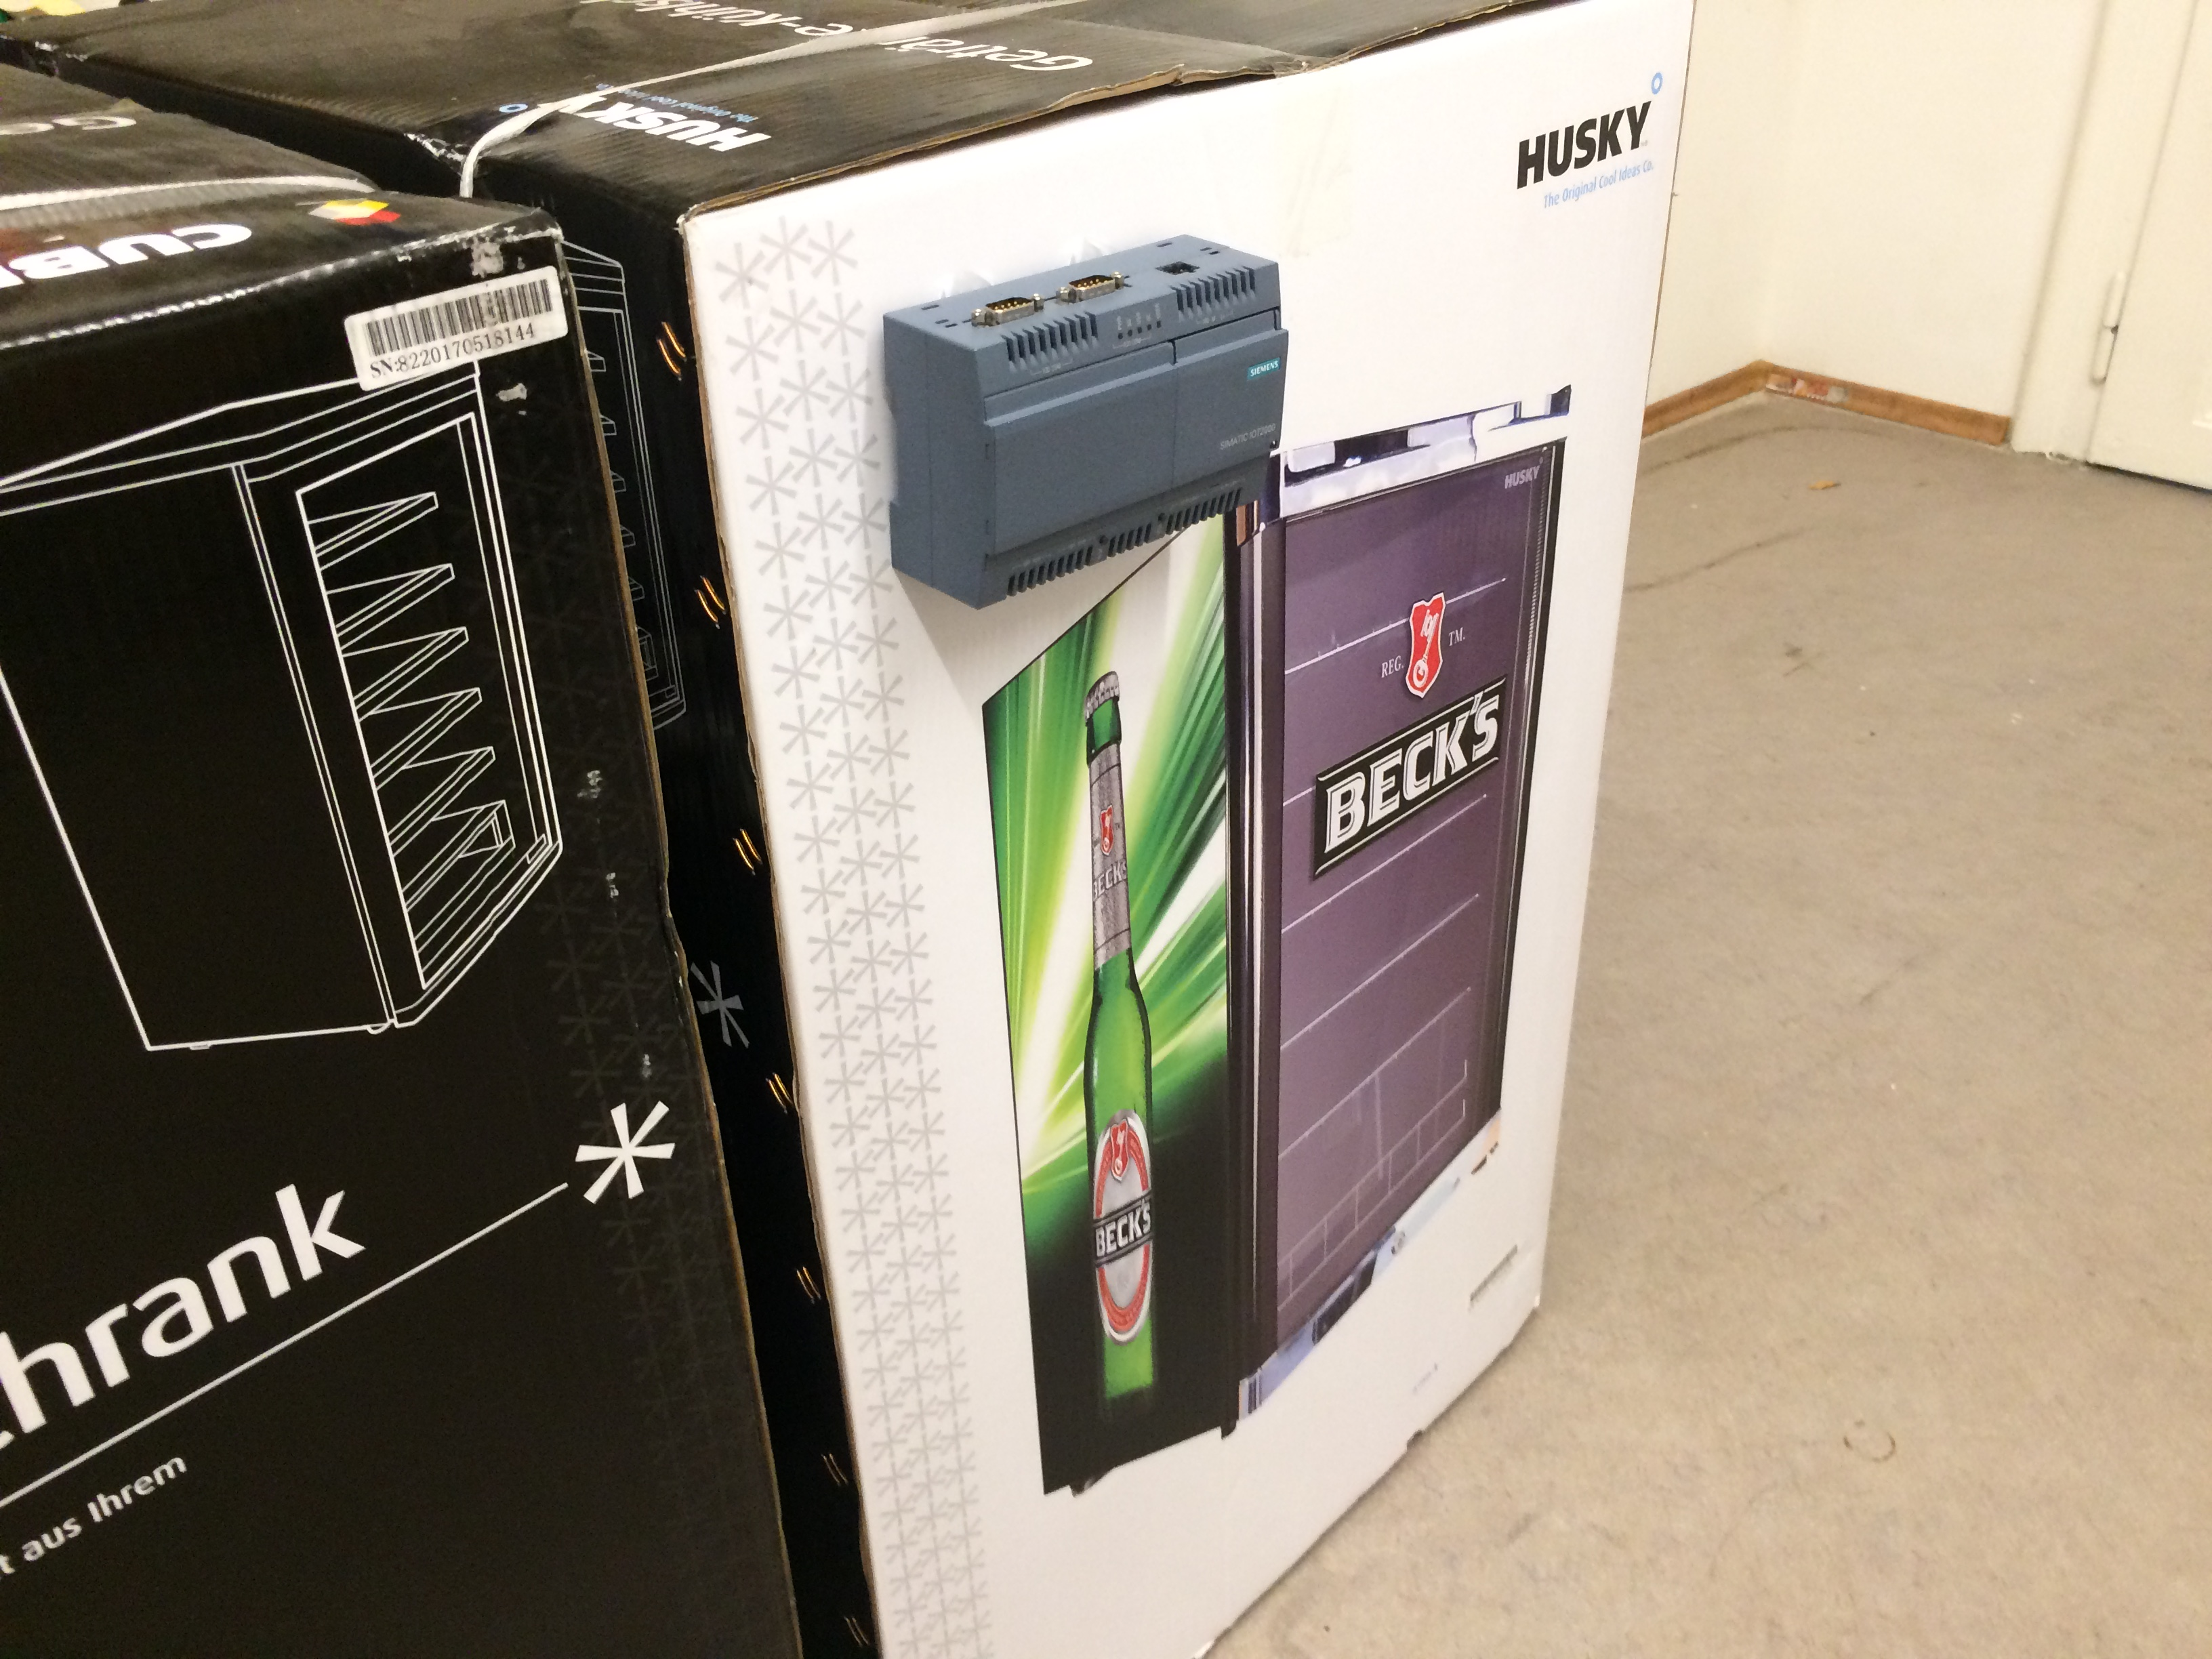iot2000: (880, 232, 1292, 615)
